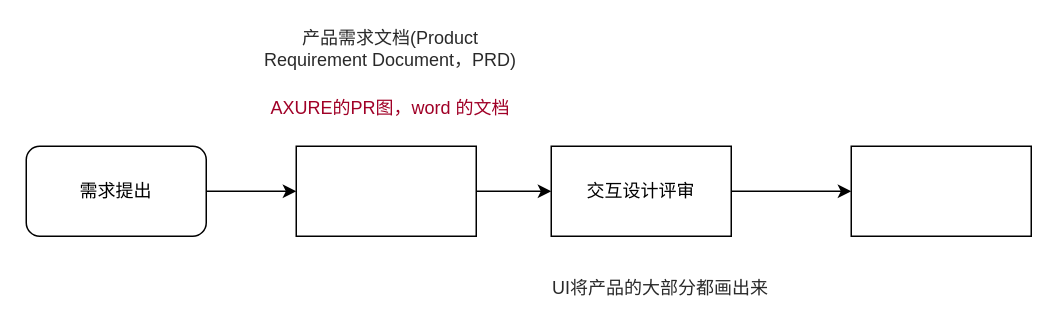
Image size: 1058x336. Some labels were removed from this diagram. Each missing label, with the centre of its shape:
"概要设计" goes at pixel 940 190.
"需求PRD评审" goes at pixel 385 190.
